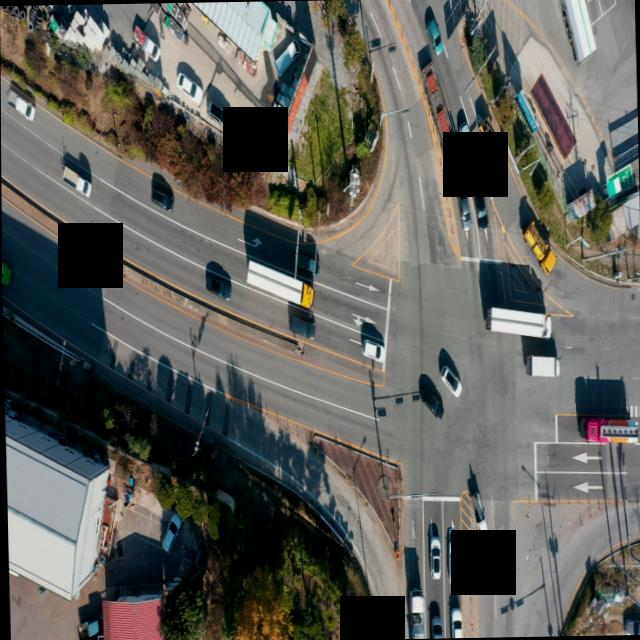car: (178, 70, 205, 104), (420, 382, 443, 419), (161, 512, 182, 552), (473, 175, 488, 228), (206, 272, 232, 300), (287, 312, 315, 338), (458, 120, 475, 161), (440, 365, 461, 397), (428, 18, 445, 56), (210, 97, 232, 125), (448, 537, 461, 583), (457, 186, 470, 230), (428, 534, 441, 577), (361, 337, 384, 361), (153, 186, 175, 210), (451, 606, 463, 638), (625, 616, 640, 634), (430, 616, 442, 638)
medium_truck: (421, 58, 464, 172), (247, 253, 316, 310), (560, 0, 595, 66), (485, 306, 549, 340), (524, 216, 557, 273), (580, 413, 638, 442), (410, 590, 427, 638), (527, 352, 559, 376)
small_truck: (61, 159, 93, 196), (479, 121, 504, 168), (270, 42, 299, 76), (8, 88, 36, 121), (134, 24, 159, 60), (471, 492, 489, 538), (75, 610, 100, 640), (295, 250, 320, 278)
